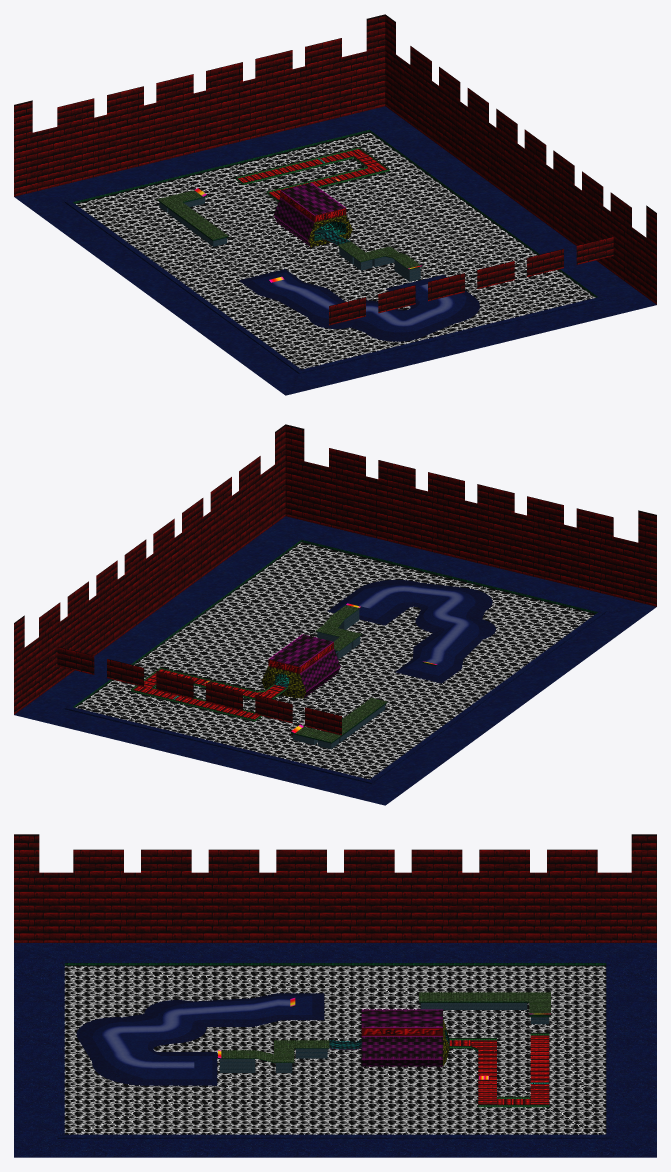
3 views of the same model, one above another, from view 1: azimuth 30°, elevation 25°; view 2: azimuth 150°, elevation 25°; view 3: azimuth 270°, elevation 25° (orthographic). The views are drawn at different scales.
Visible parts, largest first — view 1: Course-SKP--Wall, Course-SKP--Water, Course-SKP--Grass, Course-SKP--Grass2, Course-SKP--Thin_Wall, Course-SKP--Rainbow_Road1, Course-SKP--Road1, Course-SKP--Stone_Road, Course-SKP--Road, Course-SKP--Curve_Road_Wall, Course-SKP--Rainbow_Wall; view 2: Course-SKP--Wall, Course-SKP--Water, Course-SKP--Grass, Course-SKP--Grass2, Course-SKP--Thin_Wall, Course-SKP--Rainbow_Road1, Course-SKP--Road, Course-SKP--Road1, Course-SKP--Stone_Road, Course-SKP--Curve_Road_Wall, Course-SKP--Rainbow_Wall, Course-SKP--WTH1; view 3: Course-SKP--Water, Course-SKP--Wall, Course-SKP--Grass, Course-SKP--Grass2, Course-SKP--Rainbow_Road1, Course-SKP--Stone_Road, Course-SKP--Road, Course-SKP--Road1, Course-SKP--Thin_Wall, Course-SKP--Curve_Road_Wall, Course-SKP--sIGN, Course-SKP--Rainbow_Wall.
Boxes of the visible parts, <box> form: Course-SKP--Wall: <box>14,14,656,325</box>; Course-SKP--Water: <box>75,132,595,369</box>; Course-SKP--Grass: <box>14,106,656,395</box>; Course-SKP--Grass2: <box>239,269,479,341</box>; Course-SKP--Thin_Wall: <box>73,129,597,297</box>; Course-SKP--Rainbow_Road1: <box>274,183,345,246</box>; Course-SKP--Road1: <box>157,190,420,268</box>; Course-SKP--Stone_Road: <box>238,149,387,199</box>; Course-SKP--Road: <box>271,279,454,326</box>; Course-SKP--Curve_Road_Wall: <box>159,198,420,281</box>; Course-SKP--Rainbow_Wall: <box>235,147,389,201</box>; Course-SKP--Wall: <box>14,424,656,735</box>; Course-SKP--Water: <box>75,542,595,779</box>; Course-SKP--Grass: <box>14,516,656,805</box>; Course-SKP--Grass2: <box>327,579,495,683</box>; Course-SKP--Thin_Wall: <box>73,539,597,743</box>; Course-SKP--Rainbow_Road1: <box>268,634,340,698</box>; Course-SKP--Road: <box>358,585,470,664</box>; Course-SKP--Road1: <box>295,605,386,742</box>; Course-SKP--Stone_Road: <box>133,669,285,719</box>; Course-SKP--Curve_Road_Wall: <box>293,609,385,748</box>; Course-SKP--Rainbow_Wall: <box>131,667,287,720</box>; Course-SKP--WTH1: <box>262,666,305,698</box>; Course-SKP--Water: <box>64,966,606,1134</box>; Course-SKP--Wall: <box>14,834,656,942</box>; Course-SKP--Grass: <box>14,943,656,1157</box>; Course-SKP--Grass2: <box>76,993,324,1085</box>; Course-SKP--Rainbow_Road1: <box>361,1009,442,1066</box>; Course-SKP--Stone_Road: <box>449,1035,549,1104</box>; Course-SKP--Road: <box>102,999,290,1068</box>; Course-SKP--Road1: <box>221,992,550,1062</box>; Course-SKP--Thin_Wall: <box>64,963,606,1107</box>; Course-SKP--Curve_Road_Wall: <box>219,1003,548,1072</box>; Course-SKP--sIGN: <box>361,1028,442,1035</box>; Course-SKP--Rainbow_Wall: <box>449,1033,549,1106</box>.
Bounding box in the file's own units: 99900 × 23971 × 126540.
Materials: 18 (18 with a texture image).
